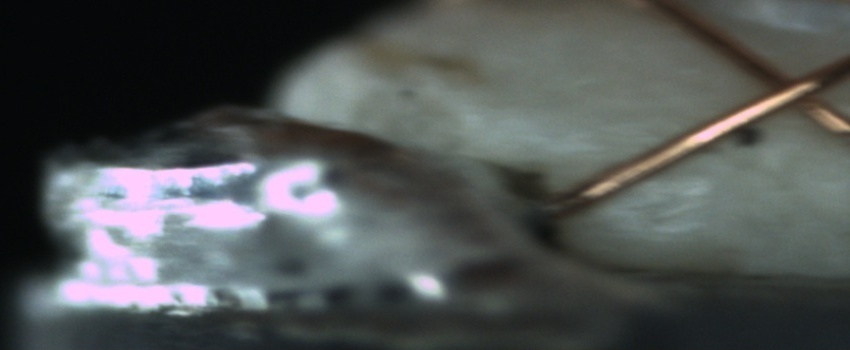CL: (739, 51, 845, 123)
